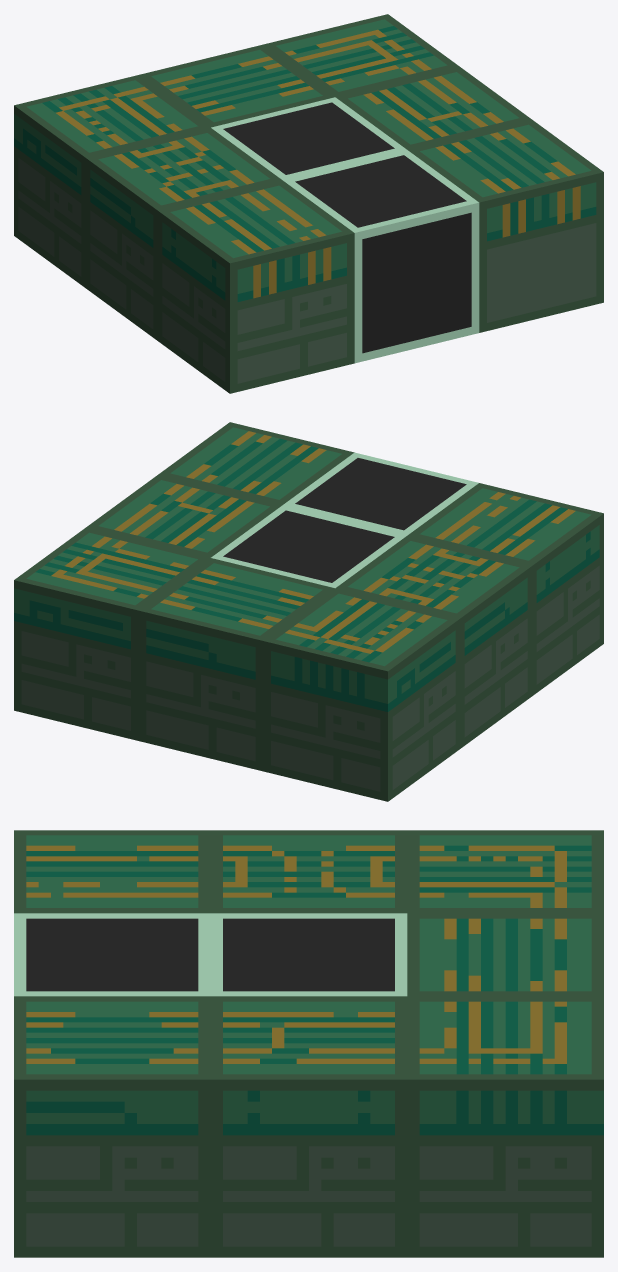
File: m_tiles_7_3x3.fbx
3 renders of one model, top to bottom at view 1: azimuth 30°, elevation 25°; view 2: azimuth 150°, elevation 25°; view 3: azimuth 270°, elevation 25°, orthographic. The views are drawn at different scales.
Parts seen in each view (by area): view 1: m_tiles_7_3x3; view 2: m_tiles_7_3x3; view 3: m_tiles_7_3x3.
Boxes of the visible parts, bbox=[...] form: m_tiles_7_3x3: bbox=[14, 14, 603, 393]; m_tiles_7_3x3: bbox=[14, 422, 603, 801]; m_tiles_7_3x3: bbox=[14, 830, 603, 1257].
Size of the model in its own units: 4.8 by 1.6 by 4.8.
Materials: 1 (1 with a texture image).
